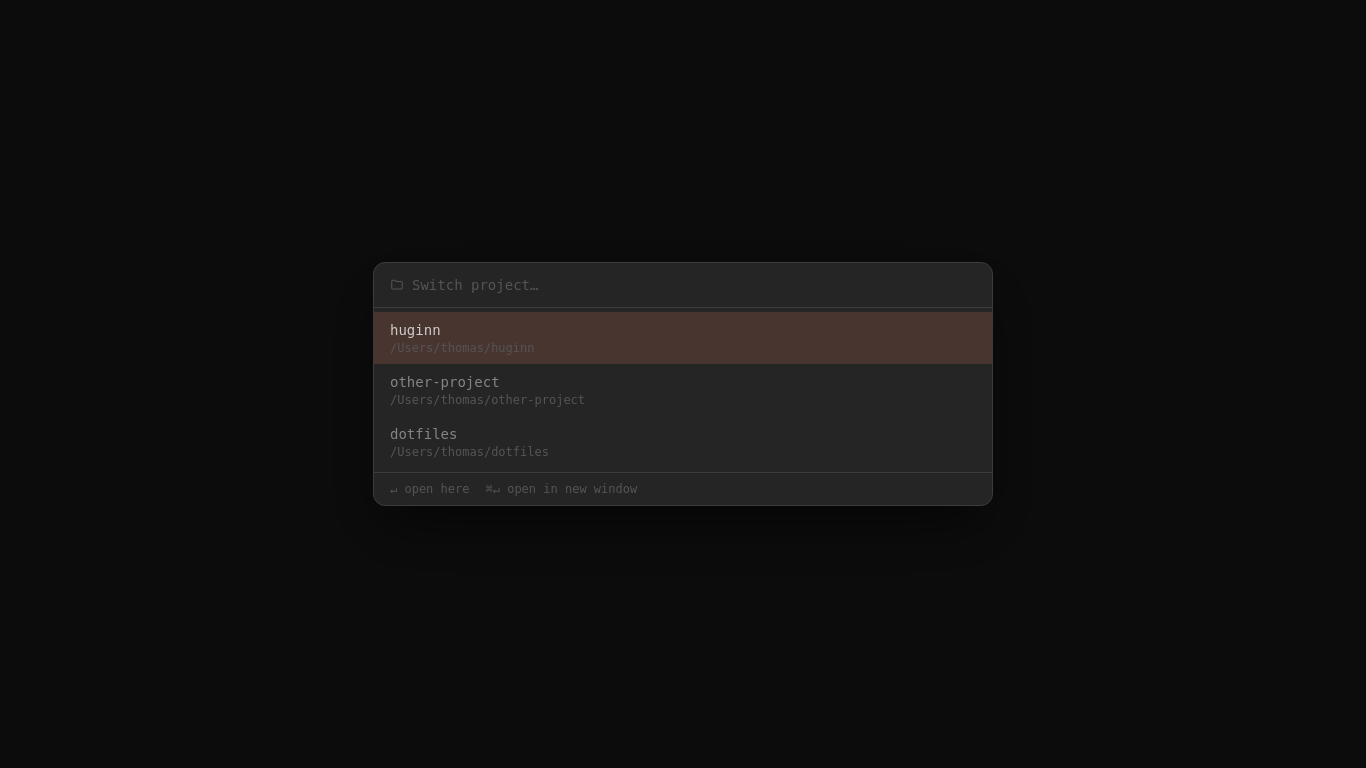
Test: RecentProjectsPalette › filters by typed query
Expected: the text "huginn" is shown, [390, 320, 441, 340]
Type "dot" into the field with placeholder "Switch project…" at (694, 285), box [412, 275, 976, 295]
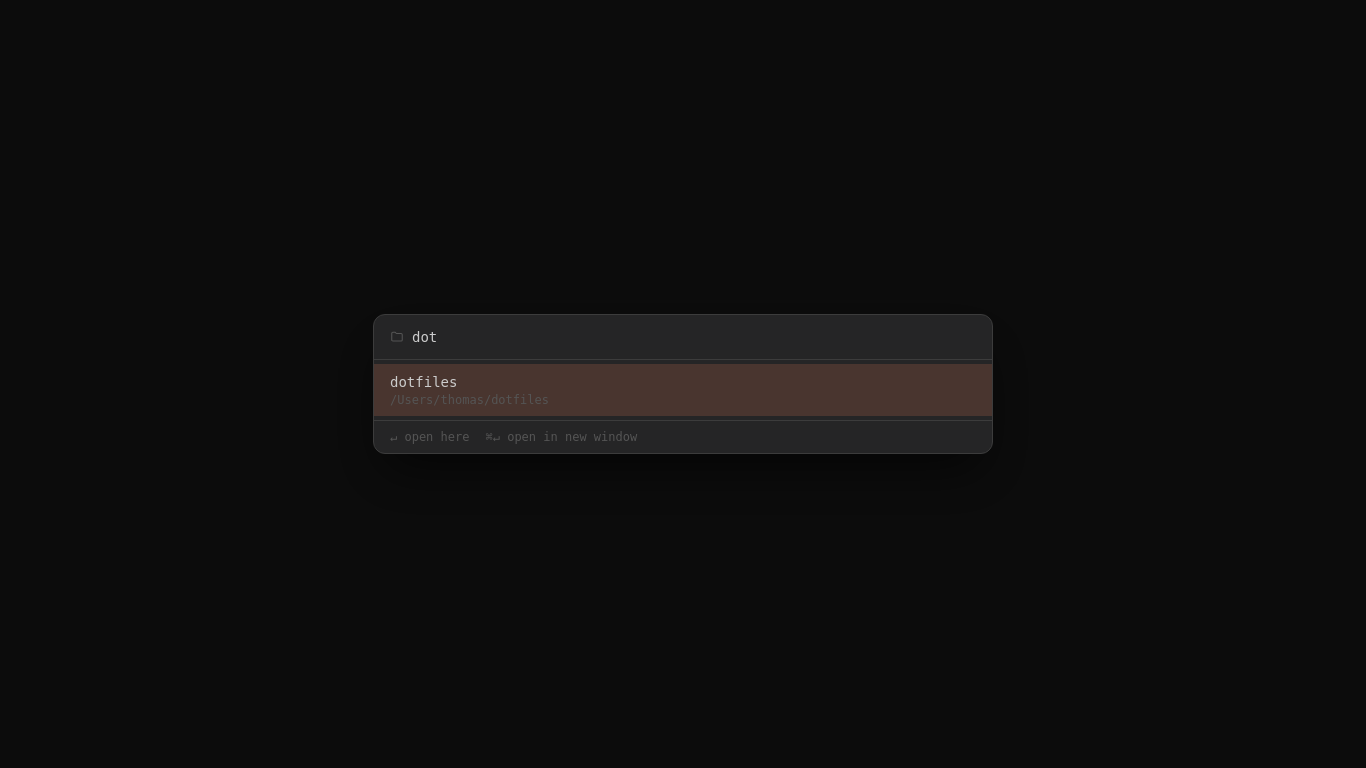
Expected: the text "dotfiles" is shown, [390, 372, 457, 392]
Result: the button "huginn" is gone
